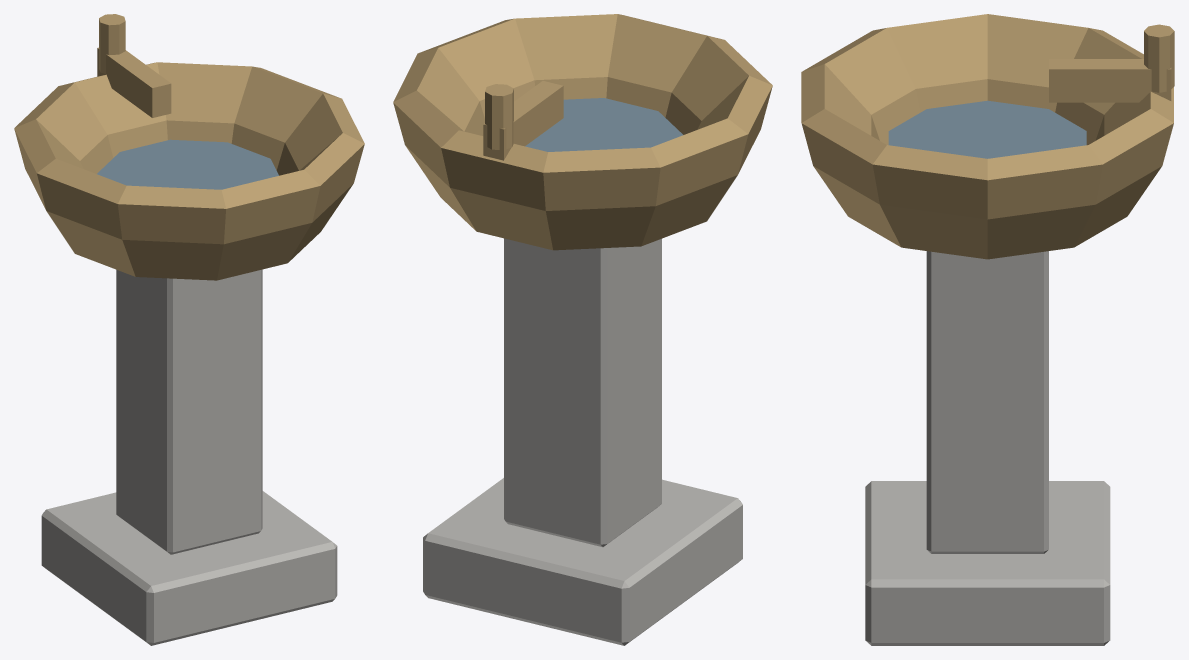
File: prop-lavabo-stone.fbx
3 renders of one model, left to right at view 1: azimuth 30°, elevation 25°; view 2: azimuth 150°, elevation 25°; view 3: azimuth 270°, elevation 25°, orthographic. The views are drawn at different scales.
Visible parts, largest first — view 1: prop-lavabo-stone; view 2: prop-lavabo-stone; view 3: prop-lavabo-stone.
Part boxes in pixels (x1=…): prop-lavabo-stone: x1=14, y1=14, x2=364, y2=645; prop-lavabo-stone: x1=393, y1=14, x2=772, y2=645; prop-lavabo-stone: x1=801, y1=14, x2=1174, y2=645.
Size of the model in its own units: 0.64 by 1.02 by 0.6093.
